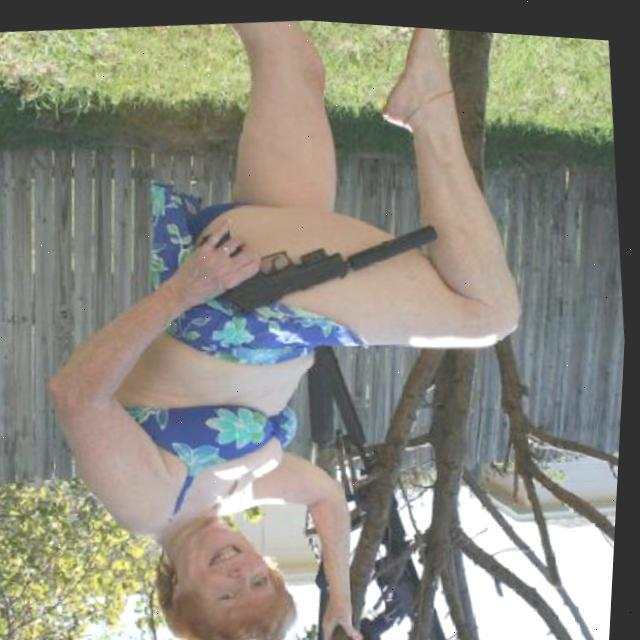gun: (195, 206, 358, 322)
